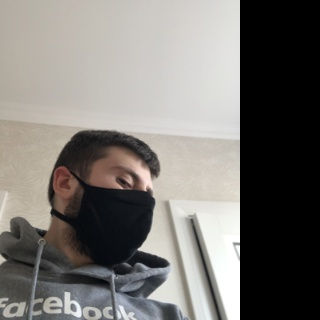with_mask: (81, 160, 155, 266)
